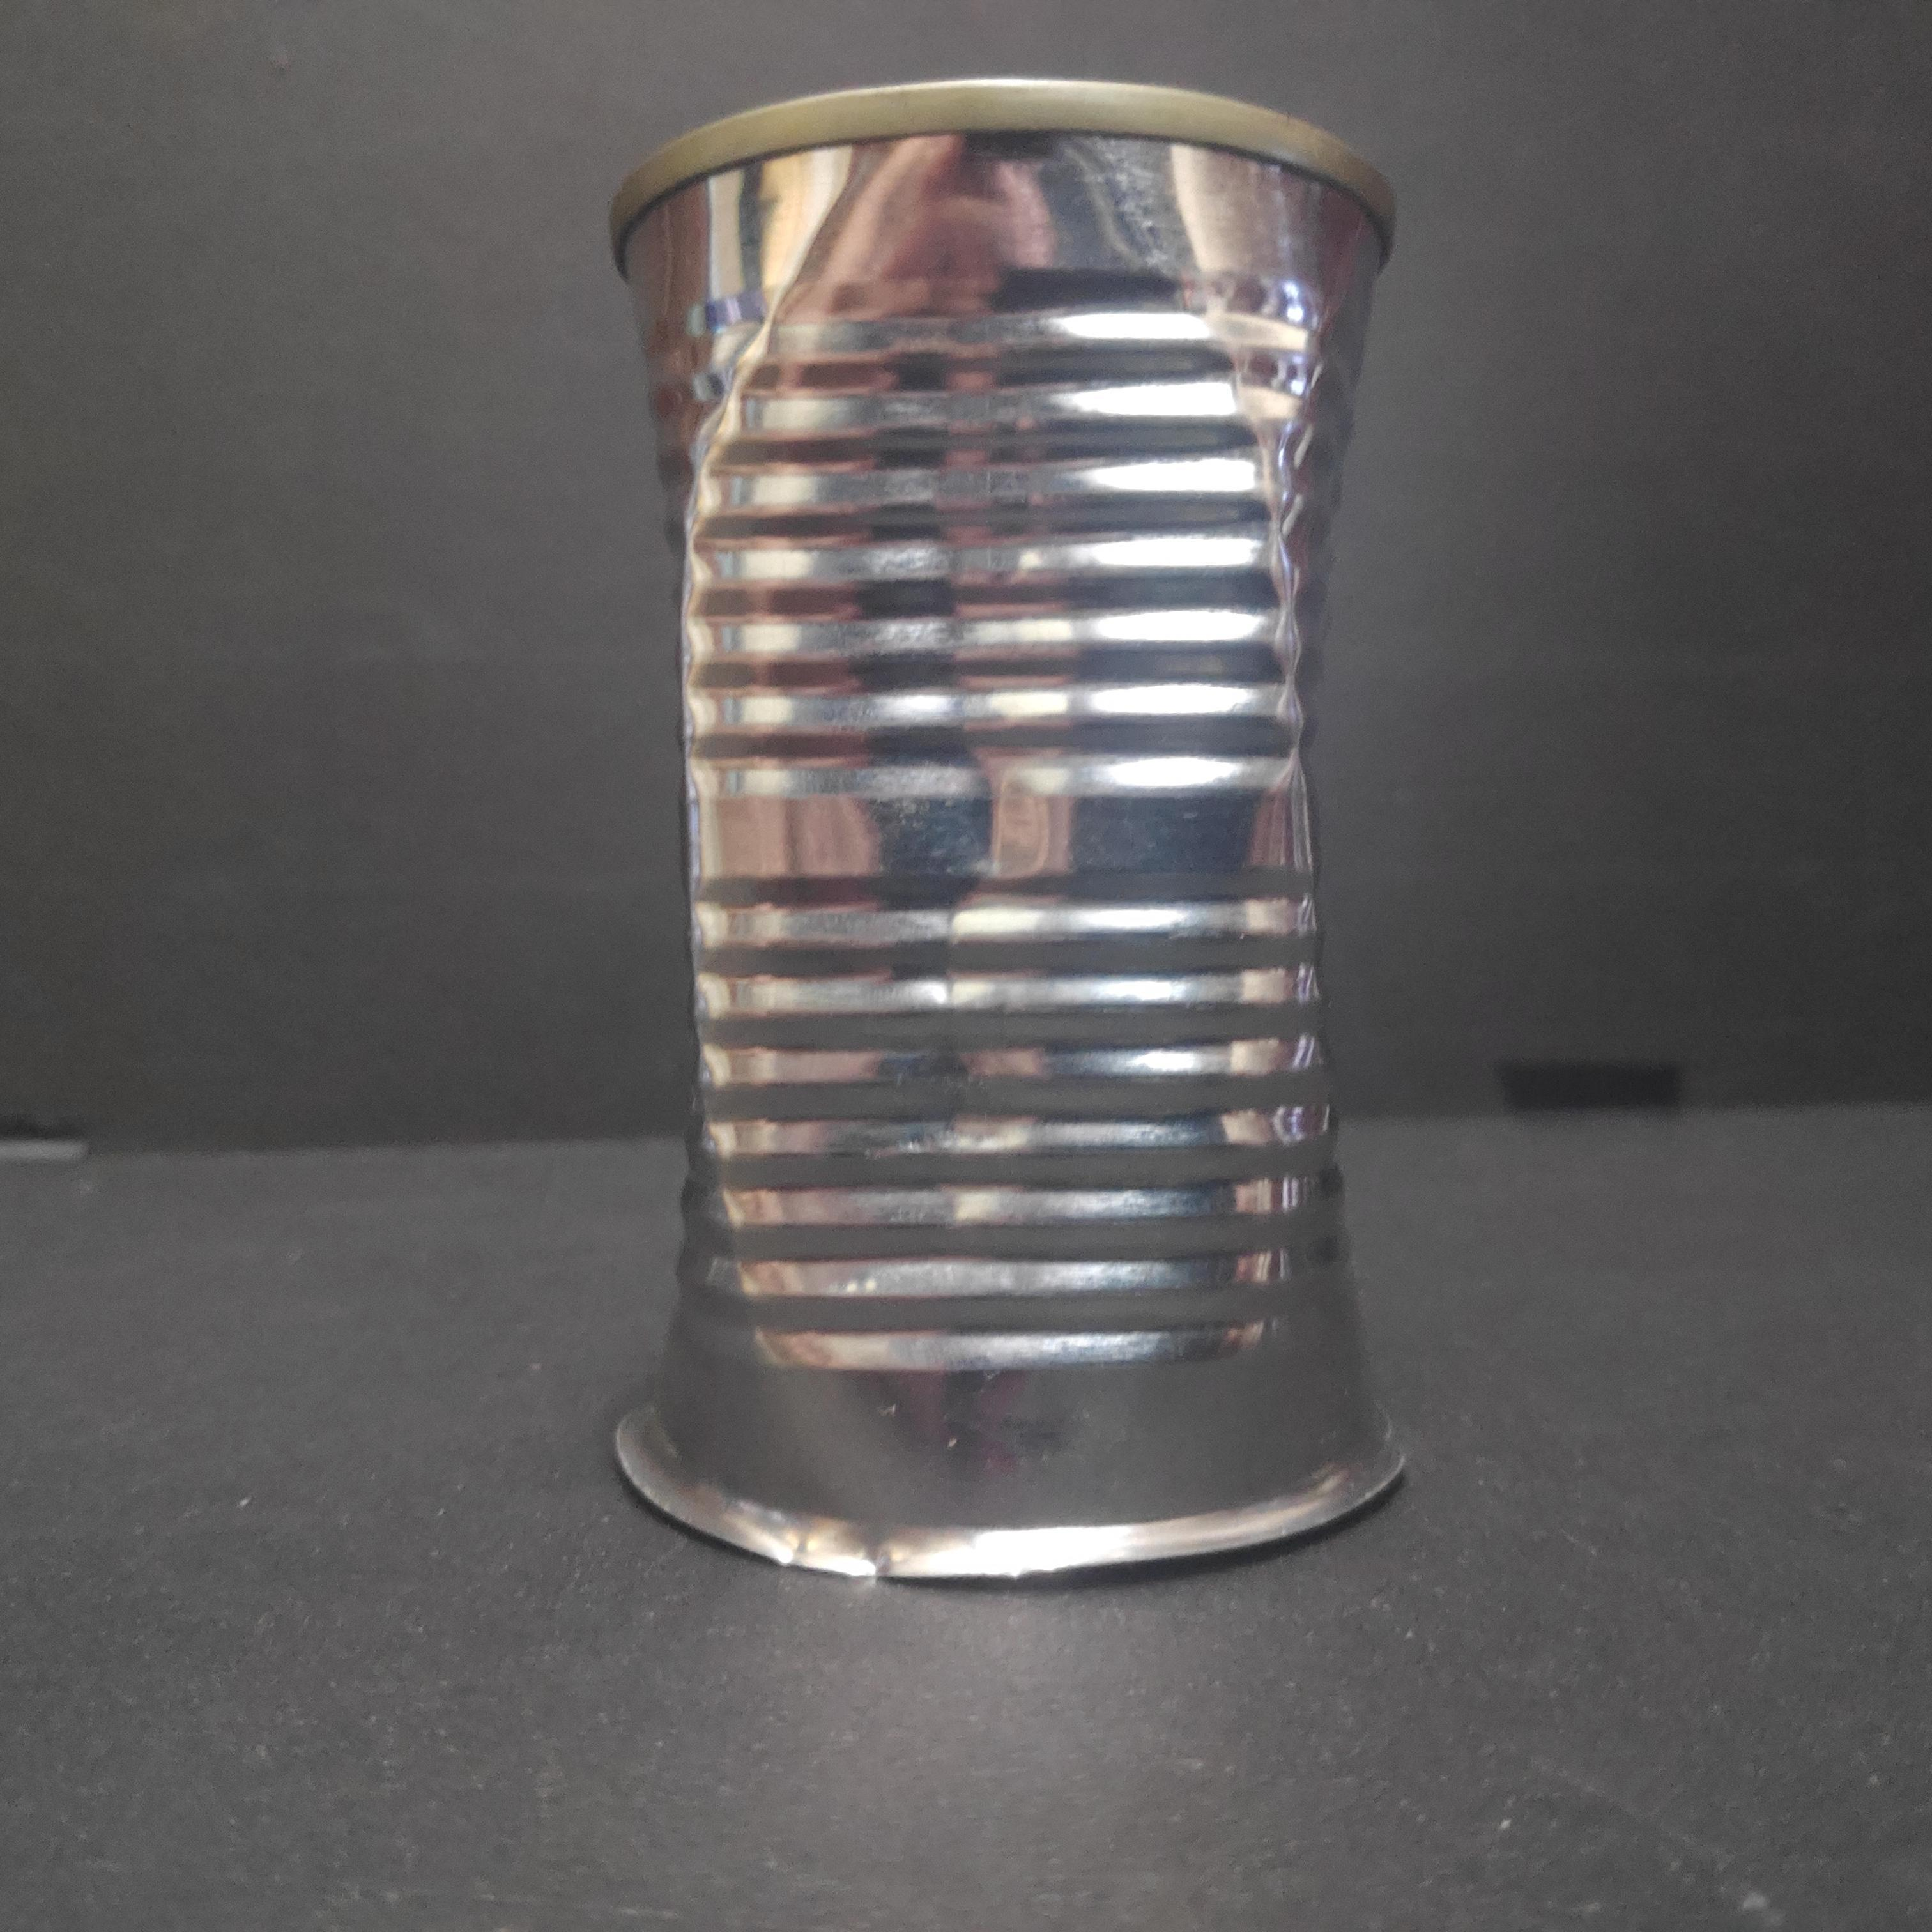Dented: (600, 60, 1421, 1598)
